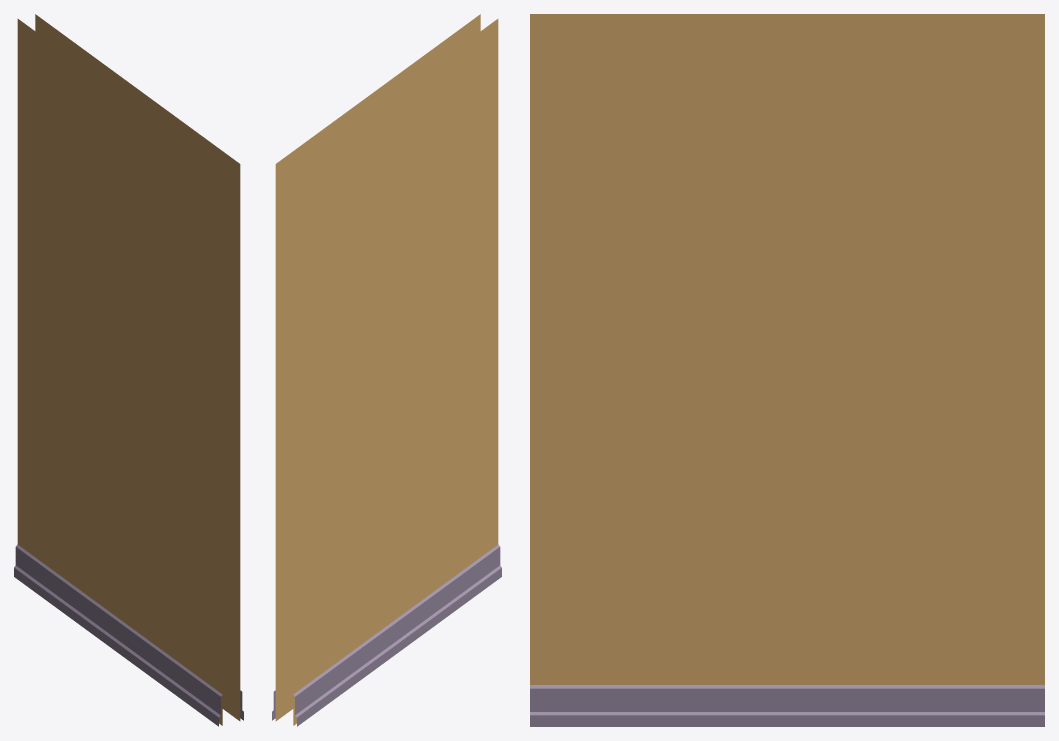
The model's file is Wall.fbx.
3 views of the same model, side by side, from view 1: azimuth 30°, elevation 25°; view 2: azimuth 150°, elevation 25°; view 3: azimuth 270°, elevation 25° (orthographic). The views are drawn at different scales.
Parts seen in each view (by area): view 1: Wall; view 2: Wall; view 3: Wall.
Part boxes in pixels (bbox=[...]): Wall: bbox=[14, 14, 243, 726]; Wall: bbox=[272, 14, 501, 726]; Wall: bbox=[530, 14, 1044, 726].
Bounding box in the file's own units: 0.14 × 3 × 2.
